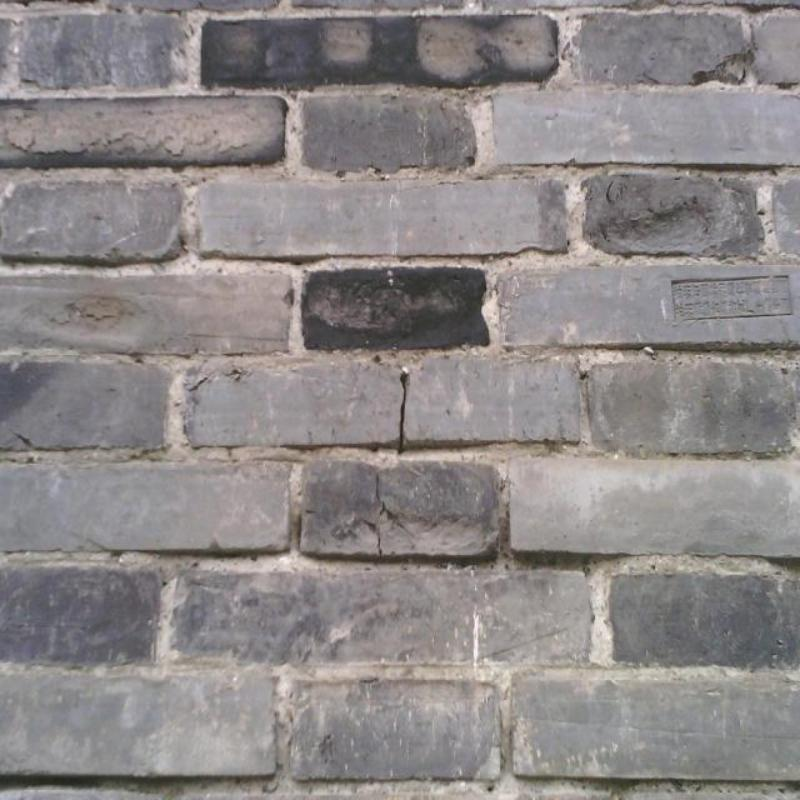pothole: (375, 470, 410, 534), (398, 367, 409, 451), (365, 520, 382, 556)
